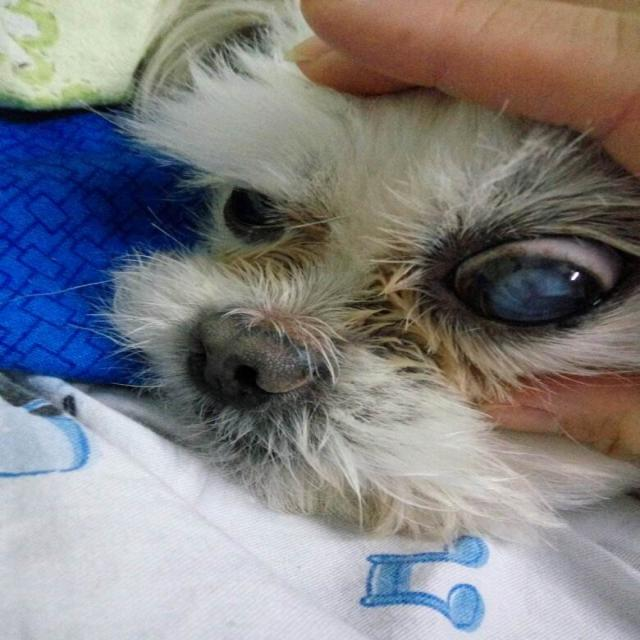eye: (428, 219, 639, 342), (214, 178, 298, 250)
